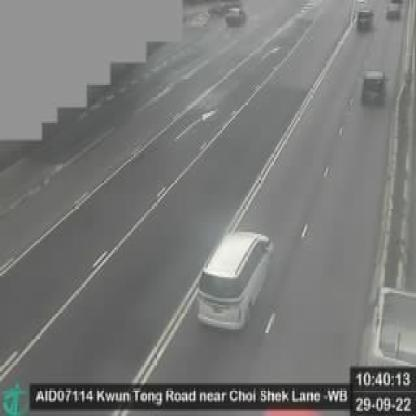Car: (194, 225, 280, 333), (359, 68, 387, 109), (221, 3, 248, 26), (381, 2, 405, 26), (354, 9, 376, 31)
